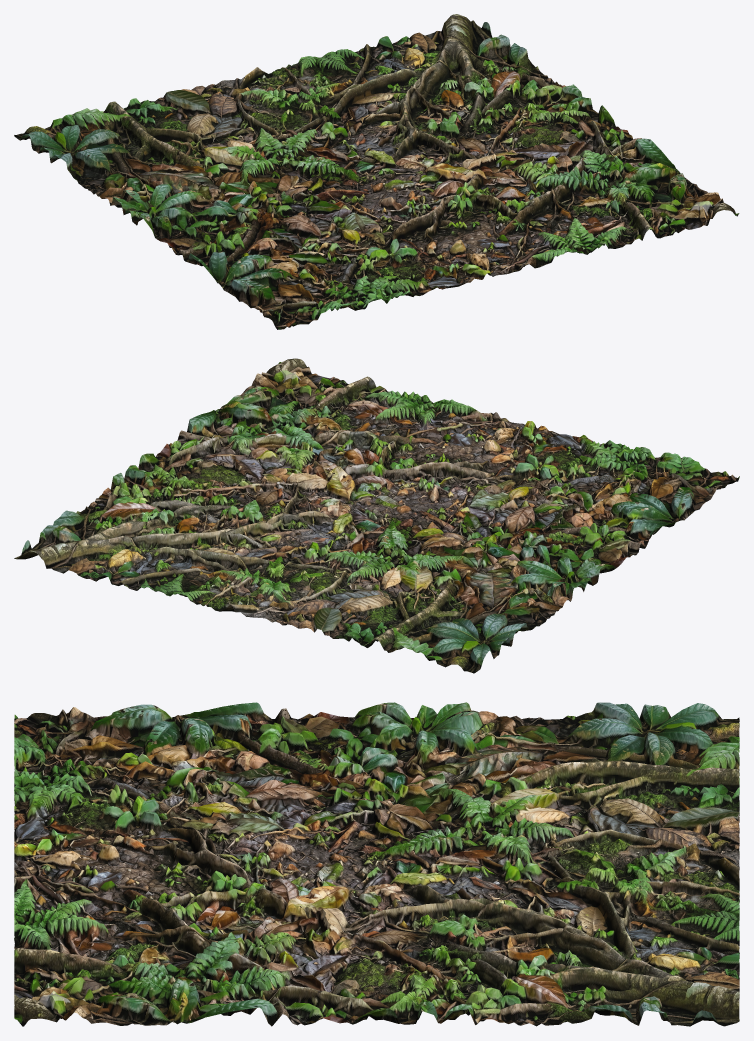
The model's file is jungle_ground_roots_with_leaf_and_grass.glb.
The picture shows the model from 3 angles, top to bottom: view 1: azimuth 30°, elevation 25°; view 2: azimuth 150°, elevation 25°; view 3: azimuth 270°, elevation 25°; orthographic projection. The views are drawn at different scales.
Parts seen in each view (by area): view 1: Plane_0; view 2: Plane_0; view 3: Plane_0.
Boxes of the visible parts, bbox=[...] form: Plane_0: bbox=[14, 14, 739, 329]; Plane_0: bbox=[14, 358, 739, 673]; Plane_0: bbox=[14, 702, 739, 1026].
Bounding box in the file's own units: 2 × 0.069 × 2.
1 material, 1 textured.
